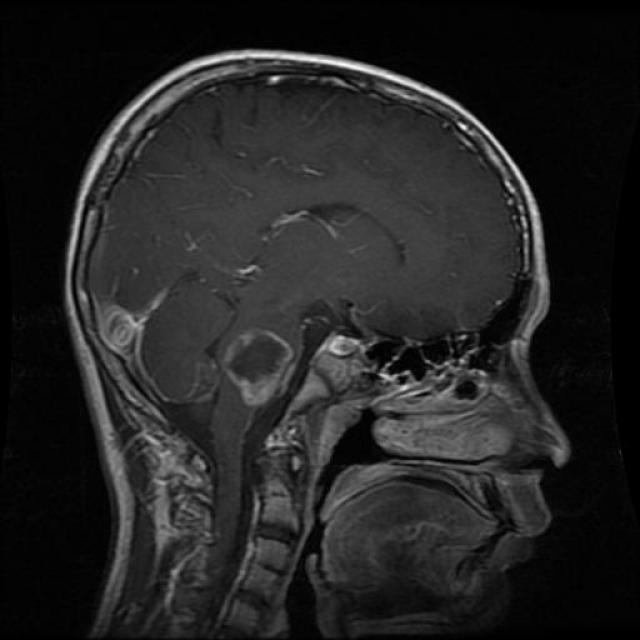Brain-Tumor: (220, 313, 308, 416)
